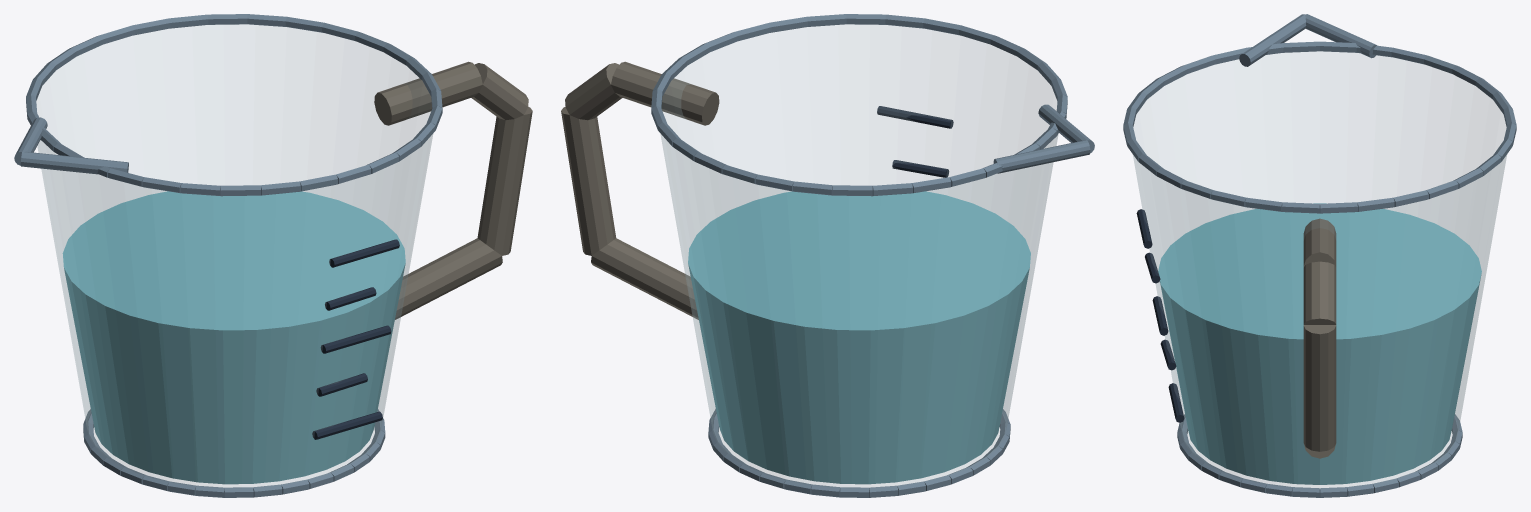
The model's file is jug.glb.
The picture shows the model from 3 angles, left to right: view 1: azimuth 30°, elevation 25°; view 2: azimuth 150°, elevation 25°; view 3: azimuth 270°, elevation 25°; orthographic projection. The views are drawn at different scales.
Visible parts, largest first — view 1: glass wall, liquid, handle2, handle3, handle0, handle1, pour lip0, tick 4, tick 2, tick 0, pour lip1; view 2: glass wall, liquid, handle2, handle3, handle0, handle1, pour lip1, pour lip0, tick 4; view 3: glass wall, liquid, handle2, handle1, handle0, pour lip0, pour lip1.
Boxes of the visible parts, bbox=[...] form: glass wall: bbox=[37, 25, 432, 487]; liquid: bbox=[62, 191, 405, 484]; handle2: bbox=[477, 107, 532, 255]; handle3: bbox=[395, 238, 502, 319]; handle0: bbox=[374, 61, 482, 125]; handle1: bbox=[471, 63, 528, 120]; pour lip0: bbox=[20, 151, 128, 174]; tick 4: bbox=[329, 239, 399, 267]; tick 2: bbox=[320, 325, 391, 353]; tick 0: bbox=[312, 411, 382, 439]; pour lip1: bbox=[14, 117, 47, 165]; glass wall: bbox=[660, 25, 1058, 487]; liquid: bbox=[688, 191, 1030, 484]; handle2: bbox=[561, 106, 616, 255]; handle3: bbox=[591, 238, 698, 319]; handle0: bbox=[611, 61, 719, 125]; handle1: bbox=[565, 63, 622, 120]; pour lip1: bbox=[993, 140, 1090, 173]; pour lip0: bbox=[1038, 104, 1094, 152]; tick 4: bbox=[877, 106, 953, 128]; glass wall: bbox=[1133, 52, 1506, 488]; liquid: bbox=[1158, 203, 1481, 484]; handle2: bbox=[1303, 325, 1336, 451]; handle1: bbox=[1303, 261, 1336, 324]; handle0: bbox=[1303, 218, 1336, 266]; pour lip0: bbox=[1239, 14, 1306, 66]; pour lip1: bbox=[1305, 14, 1376, 58].
Bounding box in the file's own units: 1.89 × 1.19 × 1.31.
